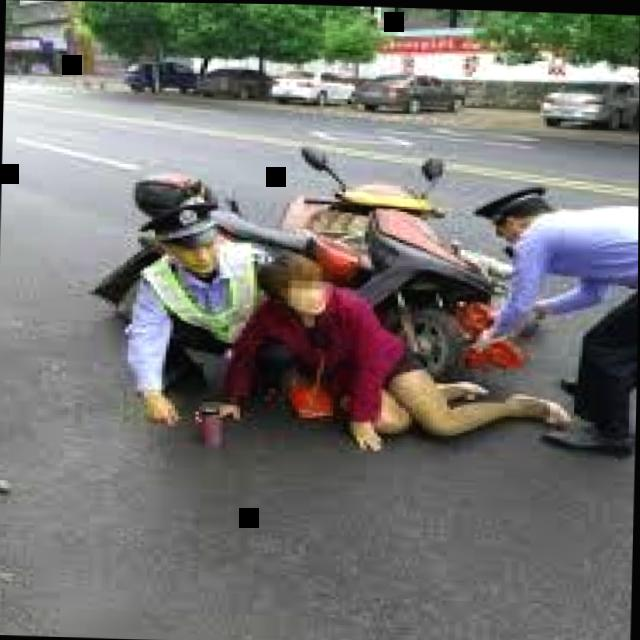Fall-Detected: (201, 240, 582, 461)
